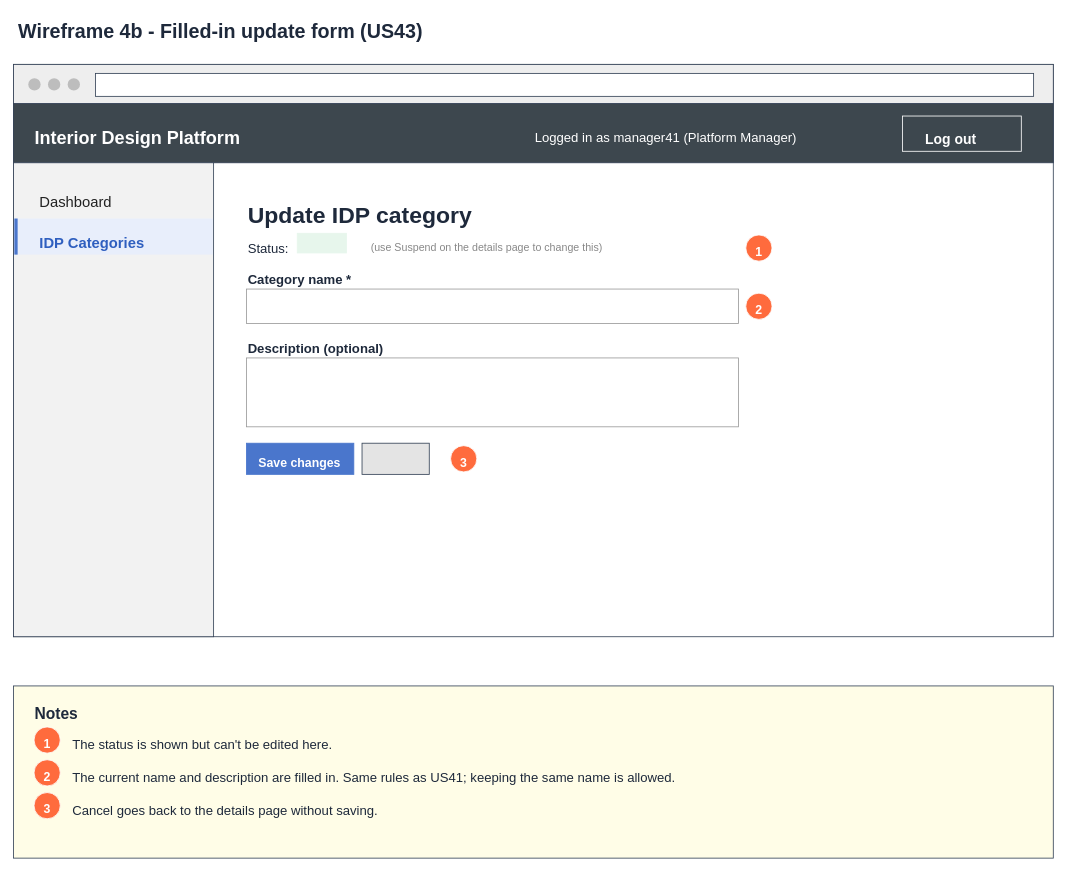
Image size: 1067x872. Some labels were removed from this diagram. Here are the shapes that lost their labels. From the top down, the centre of each, then its label:
At point 564,84: "localhost:5000/manager/categories/2/update".
At point 321,242: "Active".
At point 492,305: "Kitchen".
At point 492,392: "Cooking and dining spaces".
At point 395,458: "Cancel".
